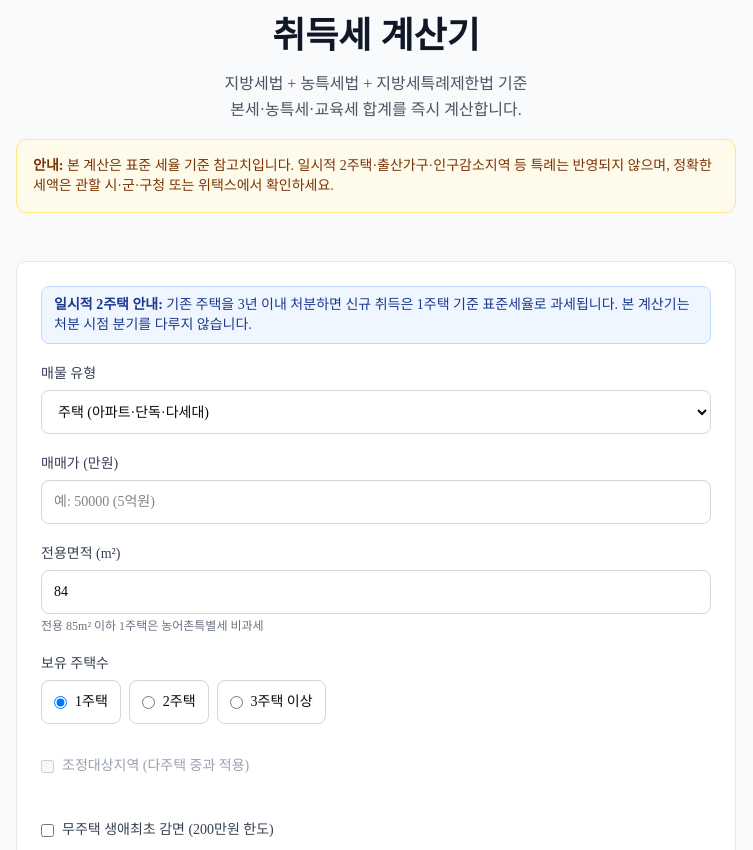
Test: /tools/acquisition-tax 페이지 › 다주택 라디오 선택 시 조정대상지역 체크 활성화
expect the checkbox labelled "조정대상지역 (다주택 중과 적용)" is disabled: met, box left=41, top=760, right=54, bottom=772
Click the radio button labelled "2주택" at (148, 702), box left=142, top=696, right=155, bottom=708
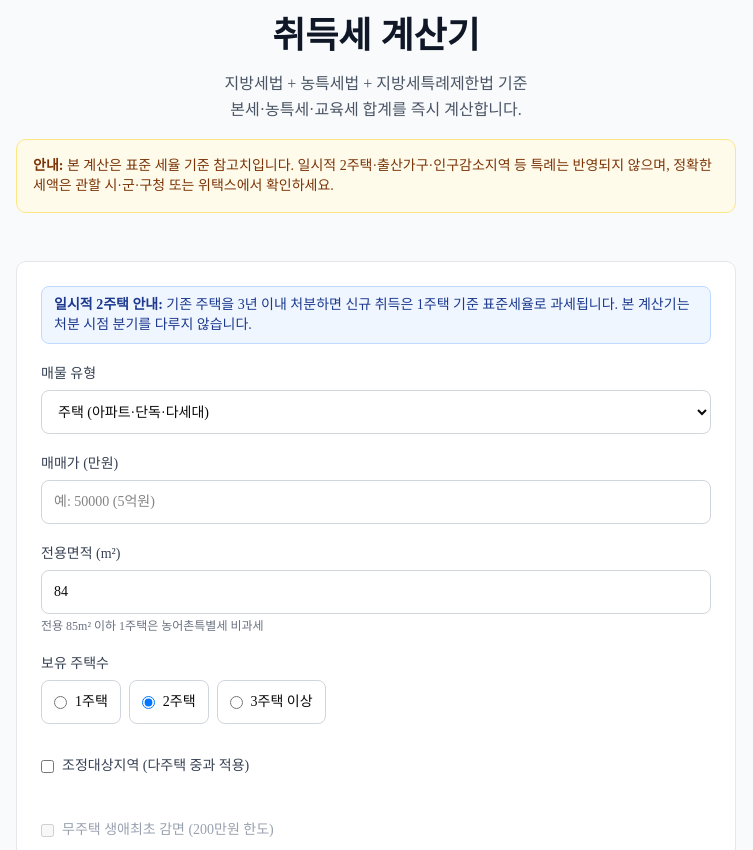
expect the checkbox labelled "조정대상지역 (다주택 중과 적용)" is enabled: met, box left=41, top=760, right=54, bottom=772
